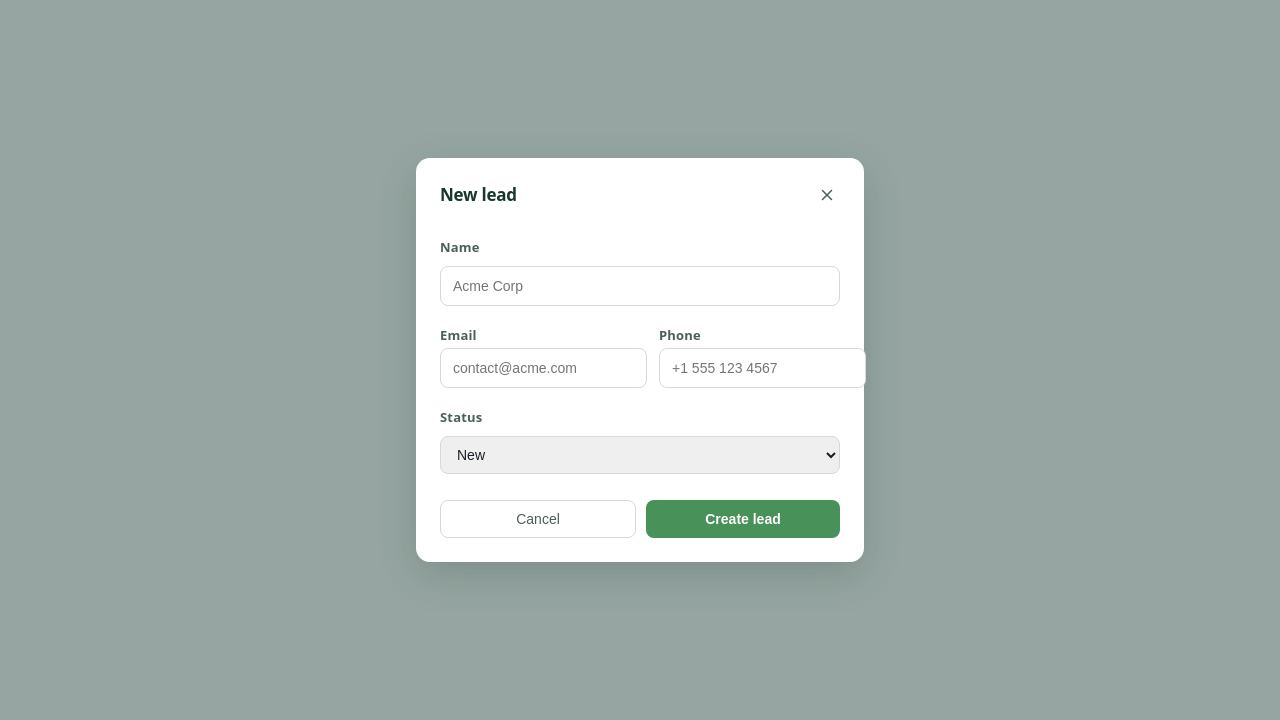
it: LeadModal — form validation edge cases › shows a client-side error when submitting with an empty name
This screenshot has width=1280, height=720.
Click the button "Create lead": x=743, y=519 [646,500,840,538]
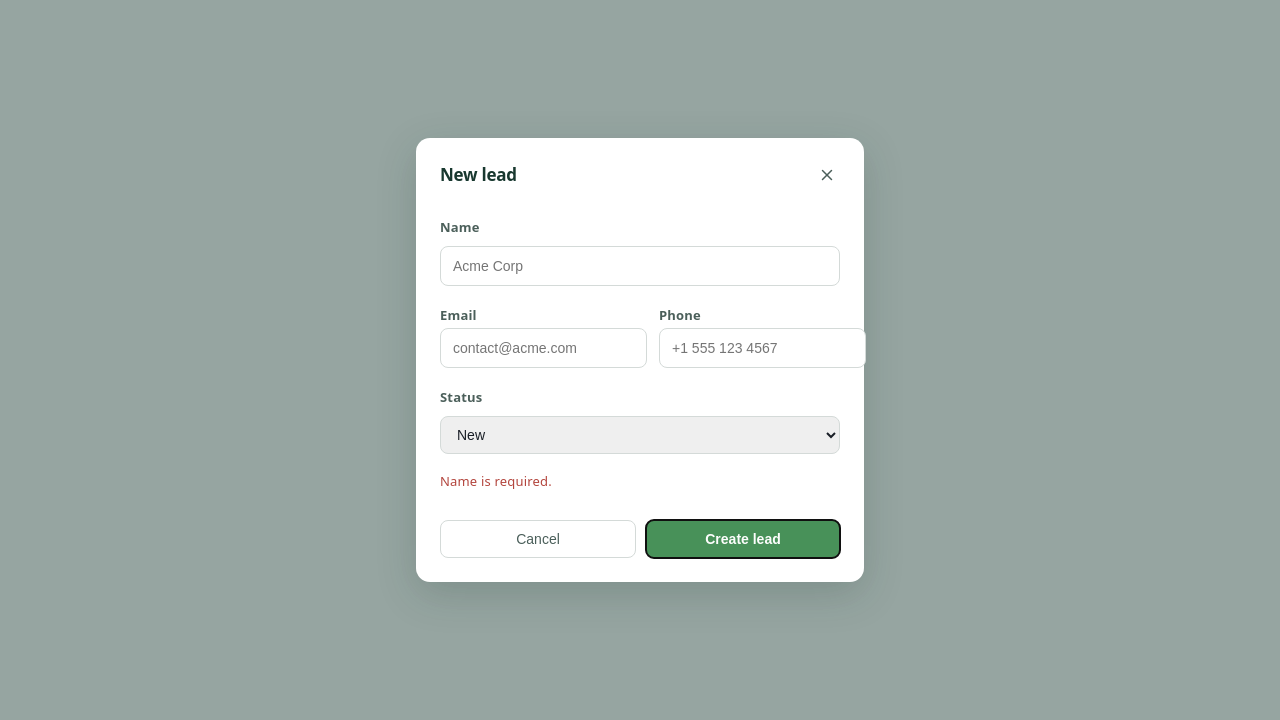
Expected: the text "Name is required." is shown, [440,472,552,490]
